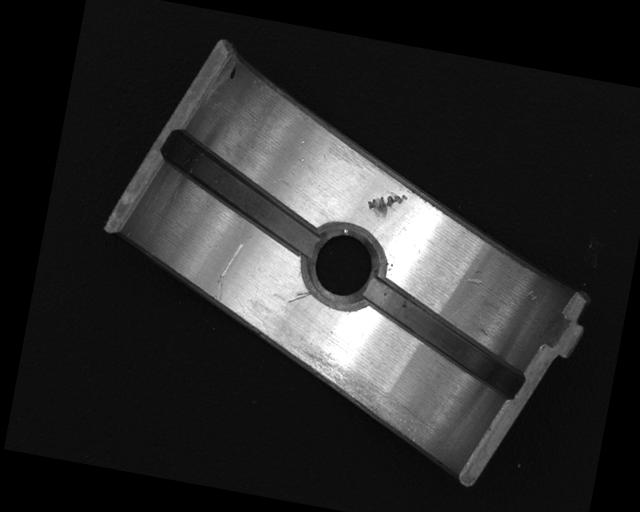blot: (229, 63, 238, 81)
bruise: (365, 188, 409, 223), (460, 274, 484, 287)
gap: (149, 131, 330, 257), (354, 280, 537, 400)
hole: (296, 216, 388, 314)
nick: (214, 230, 254, 308), (288, 288, 312, 307)
scratch: (260, 329, 435, 445)
